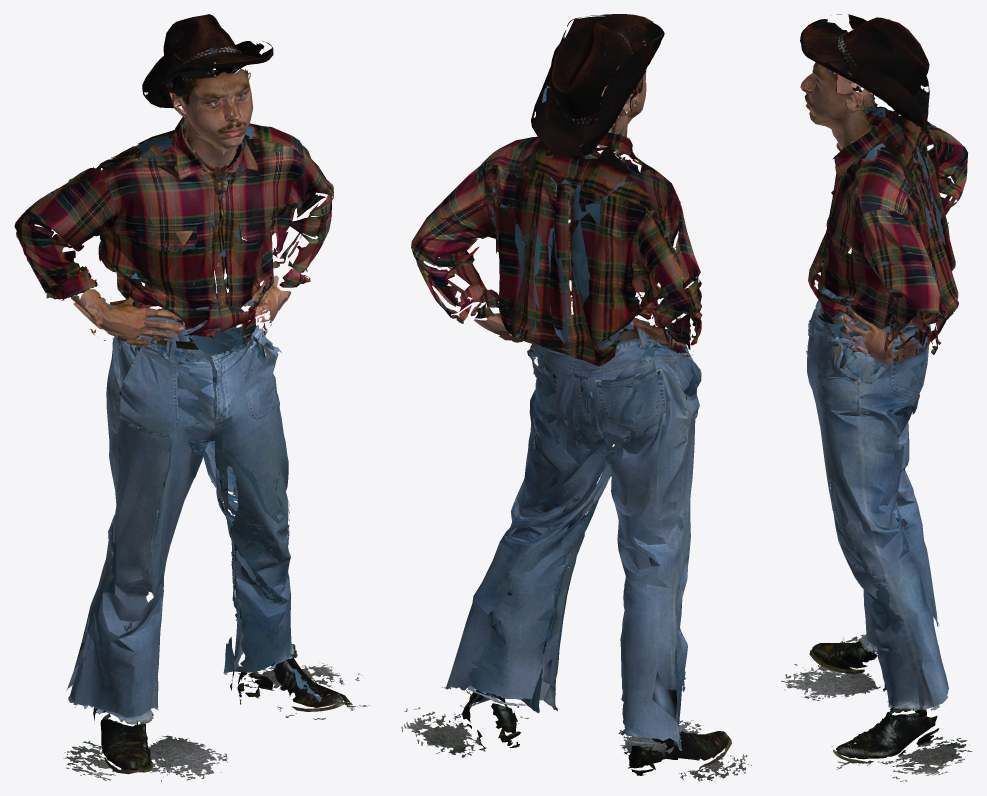
3 views of the same model, side by side, from view 1: azimuth 30°, elevation 25°; view 2: azimuth 150°, elevation 25°; view 3: azimuth 270°, elevation 25° (orthographic). The views are drawn at different scales.
Visible parts, largest first — view 1: NORMAL; view 2: NORMAL; view 3: NORMAL.
Part boxes in pixels (x1,y1,x2,y2): NORMAL: (14, 14, 369, 781); NORMAL: (401, 14, 751, 781); NORMAL: (781, 14, 972, 781).
Size of the model in its own units: 0.82 by 1.77 by 0.4469.
1 material, 1 textured.
